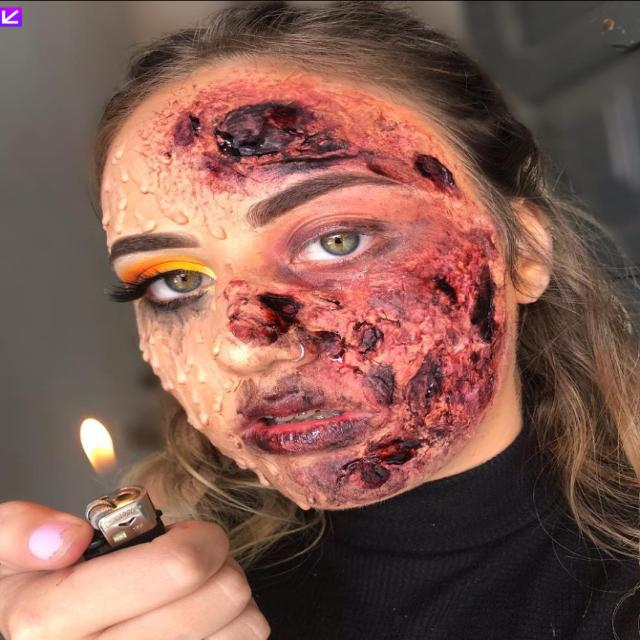fire: (80, 418, 116, 479)
